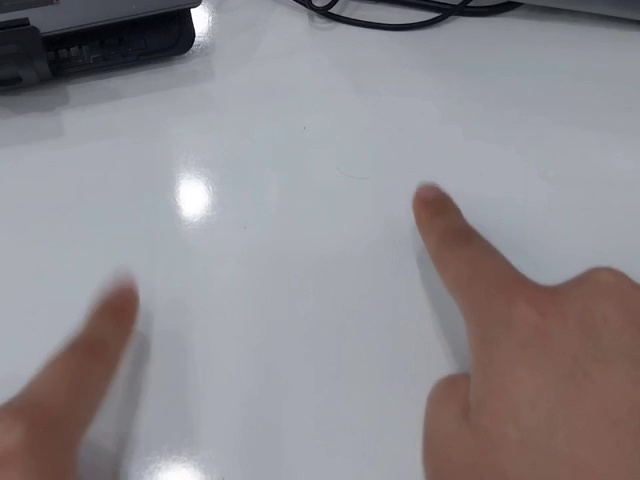fingers: (411, 181, 466, 236), (91, 278, 141, 335)
